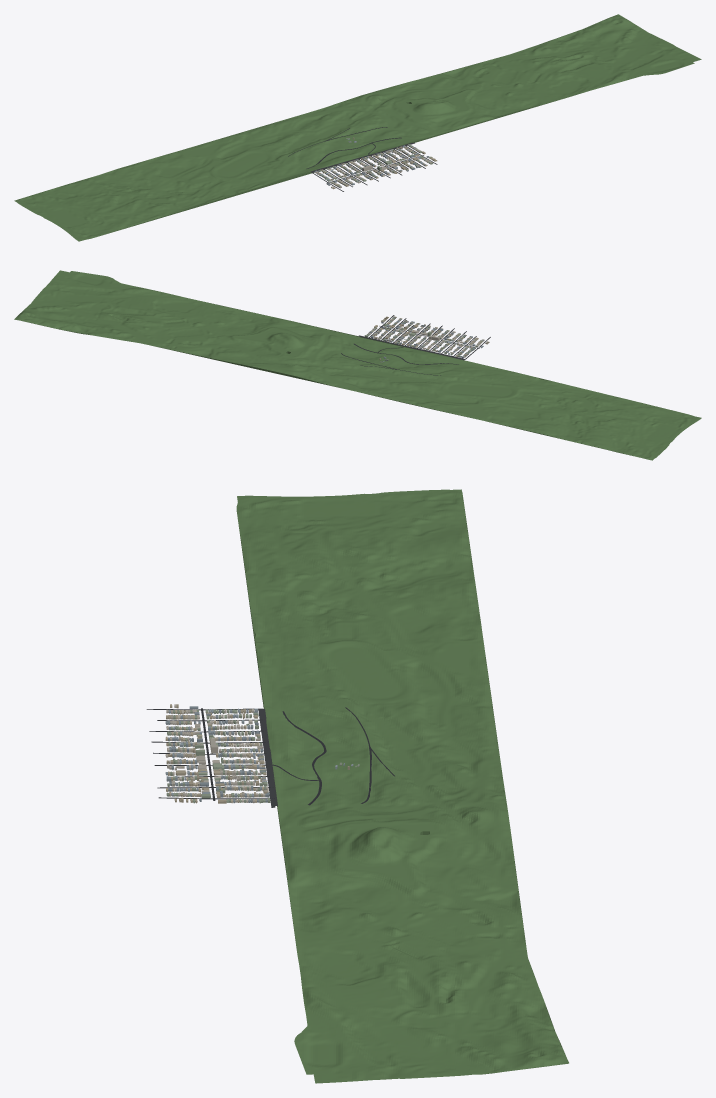
The model's file is tile_4_14.glb.
The picture shows the model from 3 angles, top to bottom: view 1: azimuth 30°, elevation 25°; view 2: azimuth 150°, elevation 25°; view 3: azimuth 270°, elevation 25°; orthographic projection. The views are drawn at different scales.
Visible parts, largest first — view 1: grn_4_14, bld_4_14, road_4_14; view 2: grn_4_14, bld_4_14, road_4_14; view 3: grn_4_14, bld_4_14, road_4_14.
Boxes of the visible parts, left/top/right/bottom form: grn_4_14: left=14, top=14, right=701, bottom=241; bld_4_14: left=314, top=137, right=437, bottom=189; road_4_14: left=288, top=127, right=437, bottom=191; grn_4_14: left=14, top=270, right=701, bottom=460; bld_4_14: left=364, top=316, right=489, bottom=362; road_4_14: left=341, top=315, right=490, bottom=375; grn_4_14: left=236, top=489, right=568, bottom=1083; bld_4_14: left=165, top=704, right=359, bottom=803; road_4_14: left=146, top=707, right=394, bottom=807.
Bounding box in the file's own units: 5075 × 127 × 1476.
